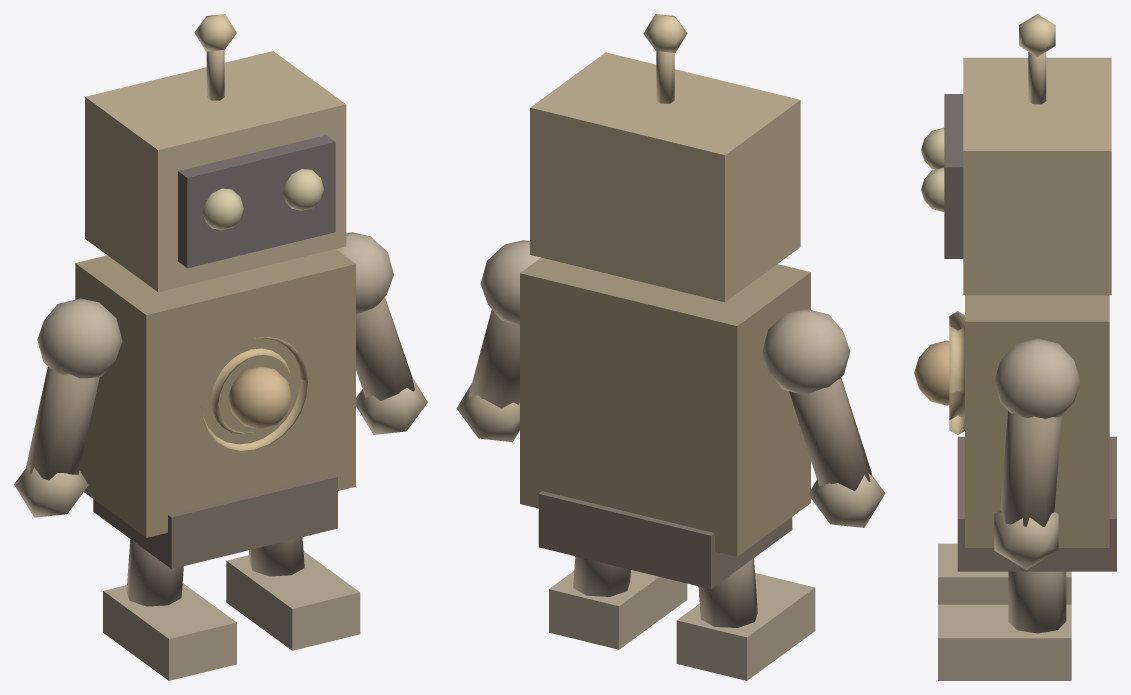
Rendered from ART-13.glb.
3 views of the same model, side by side, from view 1: azimuth 30°, elevation 25°; view 2: azimuth 150°, elevation 25°; view 3: azimuth 270°, elevation 25° (orthographic). The views are drawn at different scales.
Parts seen in each view (by area): view 1: world; view 2: world; view 3: world.
Boxes of the visible parts, bbox=[...] form: world: bbox=[14, 14, 427, 680]; world: bbox=[456, 14, 885, 680]; world: bbox=[914, 14, 1116, 680].
Size of the model in its own units: 1.36 by 2 by 0.5981.
